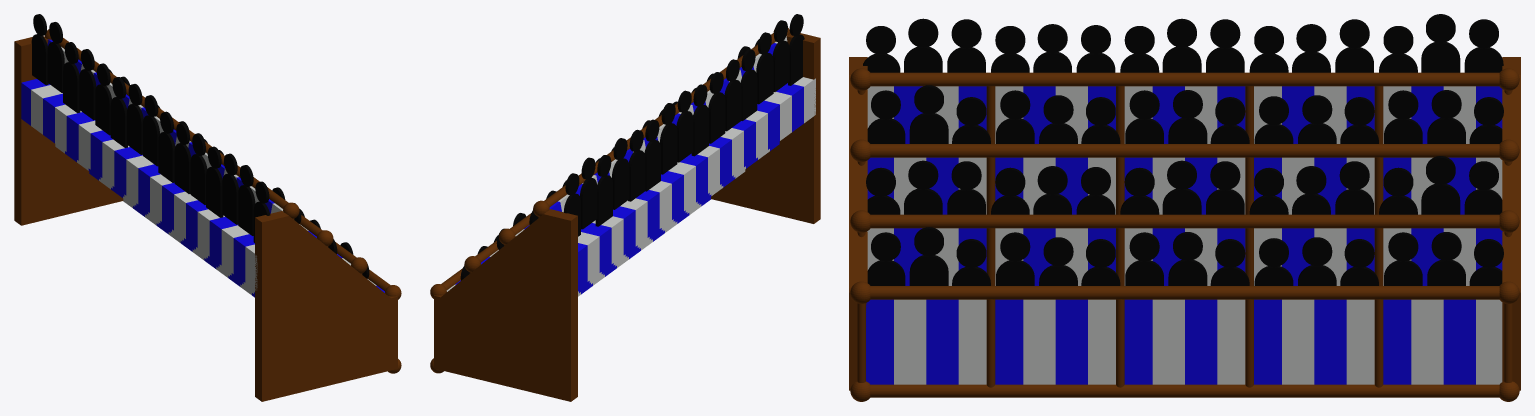
The model's file is PLATEIA AZUL.fbx.
3 renders of one model, left to right at view 1: azimuth 30°, elevation 25°; view 2: azimuth 150°, elevation 25°; view 3: azimuth 270°, elevation 25°, orthographic. The views are drawn at different scales.
Parts seen in each view (by area): view 1: Cube.001, STAND.003, Cube.002, WOOD PILLARS.003, Circle.042, Circle.040, Circle.037, Circle.038, Circle.039, Circle.044, PÚBLICO 2.006, Circle.045 (+13 smaller); view 2: Cube.002, STAND.003, Cube.001, WOOD PILLARS.003, Circle.042, Circle.043, Circle.045, Circle.047, Circle.044, PÚBLICO 2.006, Circle.037, Circle.046 (+13 smaller); view 3: STAND, WOOD PILLARS, STAND.003, STAND.001, STAND.002, WOOD PILLARS.001, WOOD PILLARS.003, WOOD PILLARS.002, Cube.002, Cube.001, Circle.021, Circle.045 (+58 smaller).
Part boxes in pixels (x1,y1,x2,y2): Cube.001: (255,211,397,401); STAND.003: (21,39,282,290); Cube.002: (14,36,123,225); WOOD PILLARS.003: (44,29,299,219); Circle.042: (79,49,96,120); Circle.040: (63,42,80,113); Circle.037: (206,146,223,217); Circle.038: (158,111,175,182); Circle.039: (110,77,127,147); Circle.044: (174,123,191,193); PÚBLICO 2.006: (222,153,238,224); Circle.045: (47,22,64,92); Cube.002: (434,209,577,401); STAND.003: (549,36,815,288); Cube.001: (711,33,820,223); WOOD PILLARS.003: (533,28,790,217); Circle.042: (612,138,629,209); Circle.043: (660,103,677,174); Circle.045: (580,157,597,229); Circle.047: (676,90,693,162); Circle.044: (708,72,725,143); PÚBLICO 2.006: (756,32,773,104); Circle.037: (740,49,757,120); Circle.046: (628,129,645,201); STAND: (866,299,1502,384); WOOD PILLARS: (850,281,1519,401); STAND.003: (867,86,1502,143); STAND.001: (867,228,1502,285); STAND.002: (867,157,1502,214); WOOD PILLARS.001: (850,210,1519,285); WOOD PILLARS.003: (850,68,1519,143); WOOD PILLARS.002: (850,139,1519,214); Cube.002: (1502,57,1520,390); Cube.001: (849,57,867,390); Circle.021: (1421,156,1460,214); Circle.045: (1421,14,1460,72).
Size of the model in its own units: 327 by 490 by 981.
